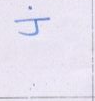anusvara: (28, 6, 33, 9)
